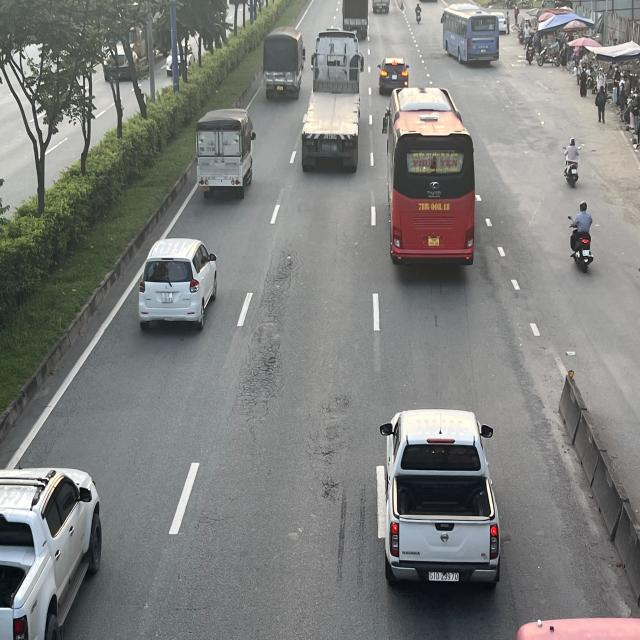car: (380, 406, 502, 594), (0, 465, 101, 640), (137, 238, 219, 327), (376, 55, 410, 93)
coach: (382, 86, 476, 266), (440, 5, 498, 65)
container: (300, 31, 365, 172)
truck: (194, 107, 256, 195), (264, 27, 306, 96), (344, 0, 369, 38)
